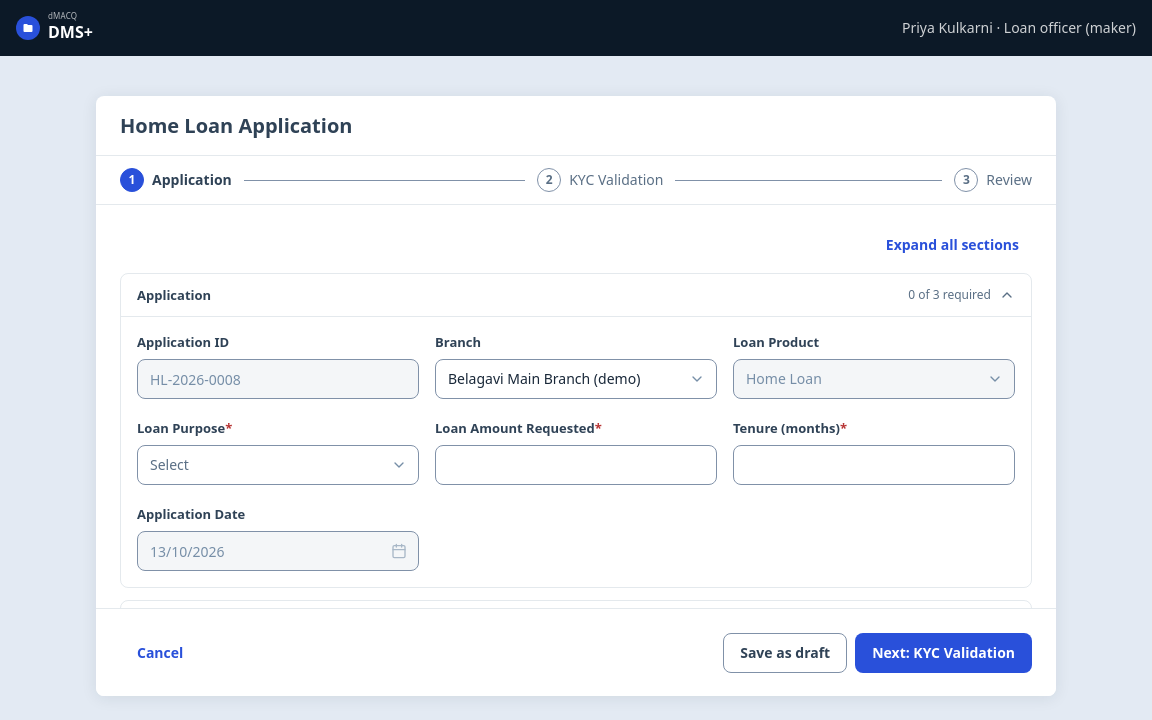
Scenario: Next: KYC Validation with errors › the section header shows how many errors it holds
Click the button "Next: KYC Validation" at (944, 652), box [855,632,1032,672]
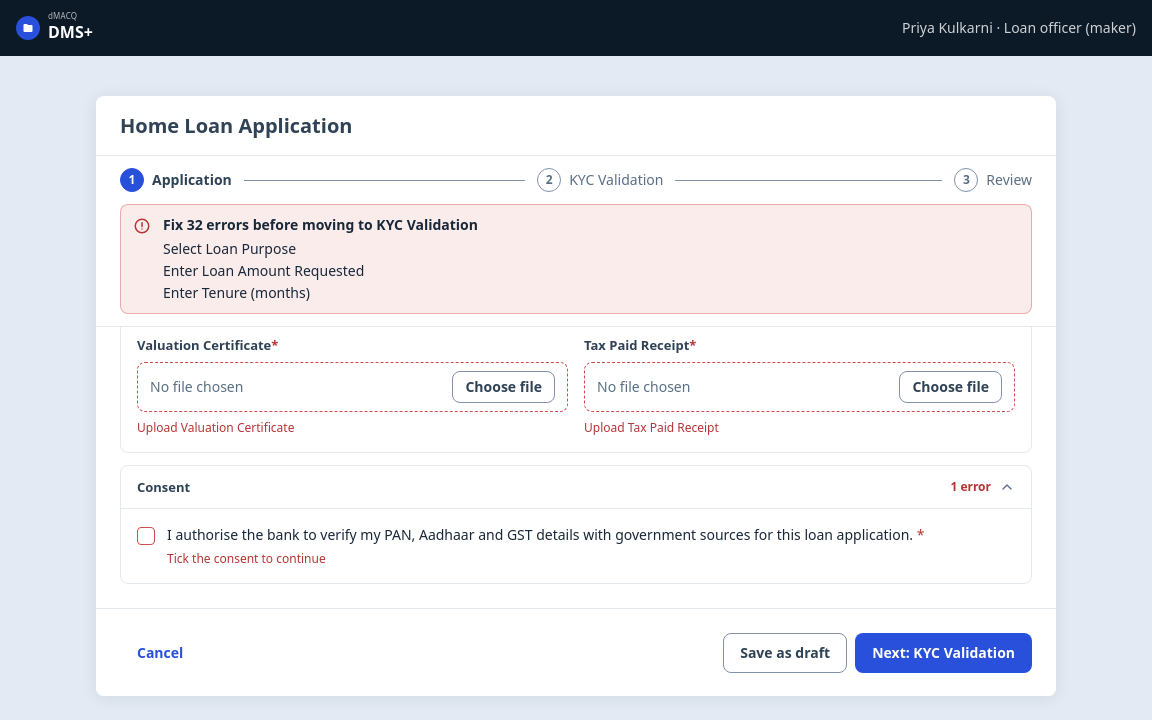
Expected: the text "1 error" is shown, [950,479,991,495]
